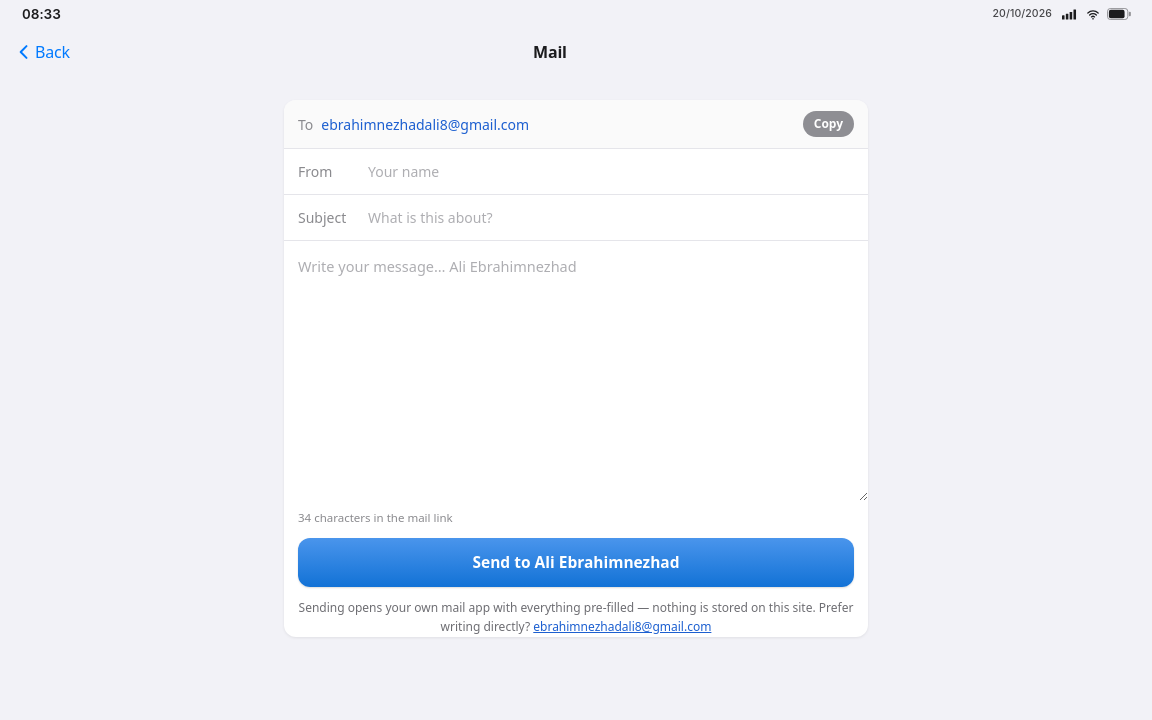
Test: MailApp › copies the owner address to the clipboard when asked
Click the button with test id "mail-copy-address".
click(828, 124)  # box [803,111,854,137]
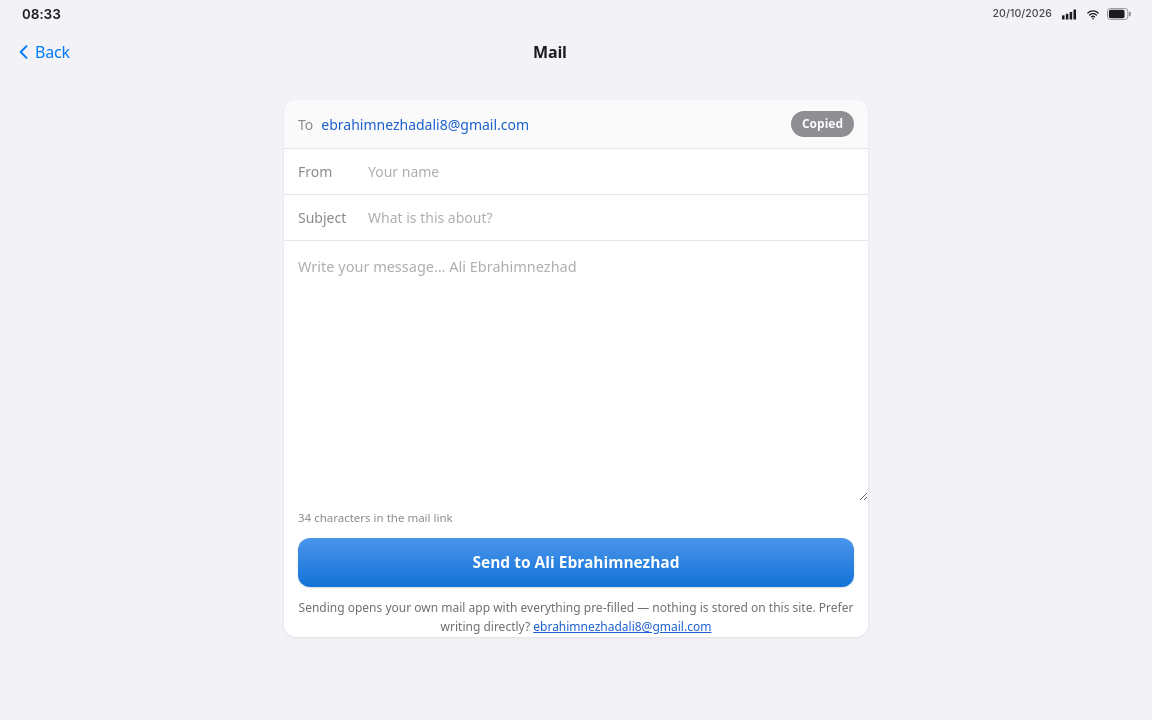
Expected: the button "Copied" is shown, [791,111,854,137]
